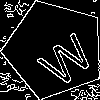W: (30, 24, 98, 89)
